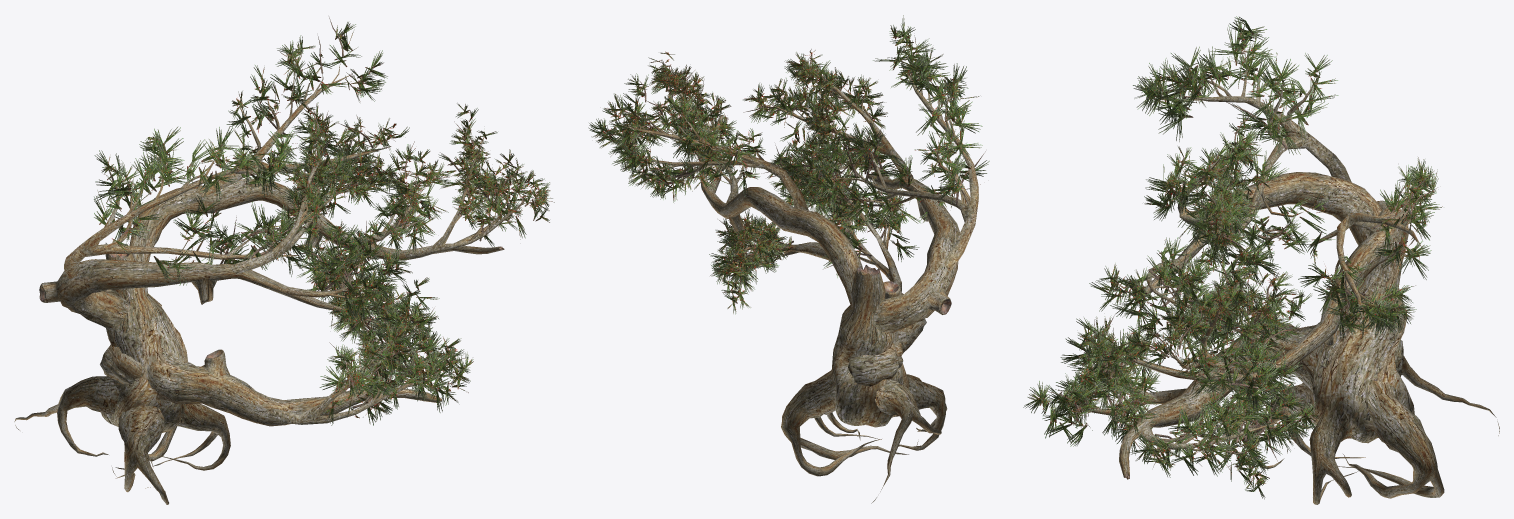
File: jeffrey.glb
3 views of the same model, side by side, from view 1: azimuth 30°, elevation 25°; view 2: azimuth 150°, elevation 25°; view 3: azimuth 270°, elevation 25° (orthographic). The views are drawn at different scales.
Parts seen in each view (by area): view 1: JeffreyPine_High_Leaves_PineNeedles_0, JeffreyPine_High_Branches_JeffreyPineBark_0; view 2: JeffreyPine_High_Leaves_PineNeedles_0, JeffreyPine_High_Branches_JeffreyPineBark_0, JeffreyPine_High_Caps_Cap_01_0; view 3: JeffreyPine_High_Leaves_PineNeedles_0, JeffreyPine_High_Branches_JeffreyPineBark_0.
Boxes of the visible parts, x1,y1,x2,y2 form: JeffreyPine_High_Leaves_PineNeedles_0: (94,17,554,425); JeffreyPine_High_Branches_JeffreyPineBark_0: (14,54,528,504); JeffreyPine_High_Leaves_PineNeedles_0: (588,15,989,314); JeffreyPine_High_Branches_JeffreyPineBark_0: (629,63,978,503); JeffreyPine_High_Caps_Cap_01_0: (625,60,951,454); JeffreyPine_High_Leaves_PineNeedles_0: (1023,16,1442,499); JeffreyPine_High_Branches_JeffreyPineBark_0: (1073,42,1499,504).
Bounding box in the file's own units: 6.02 × 5.17 × 4.92.
3 materials, 3 textured.
